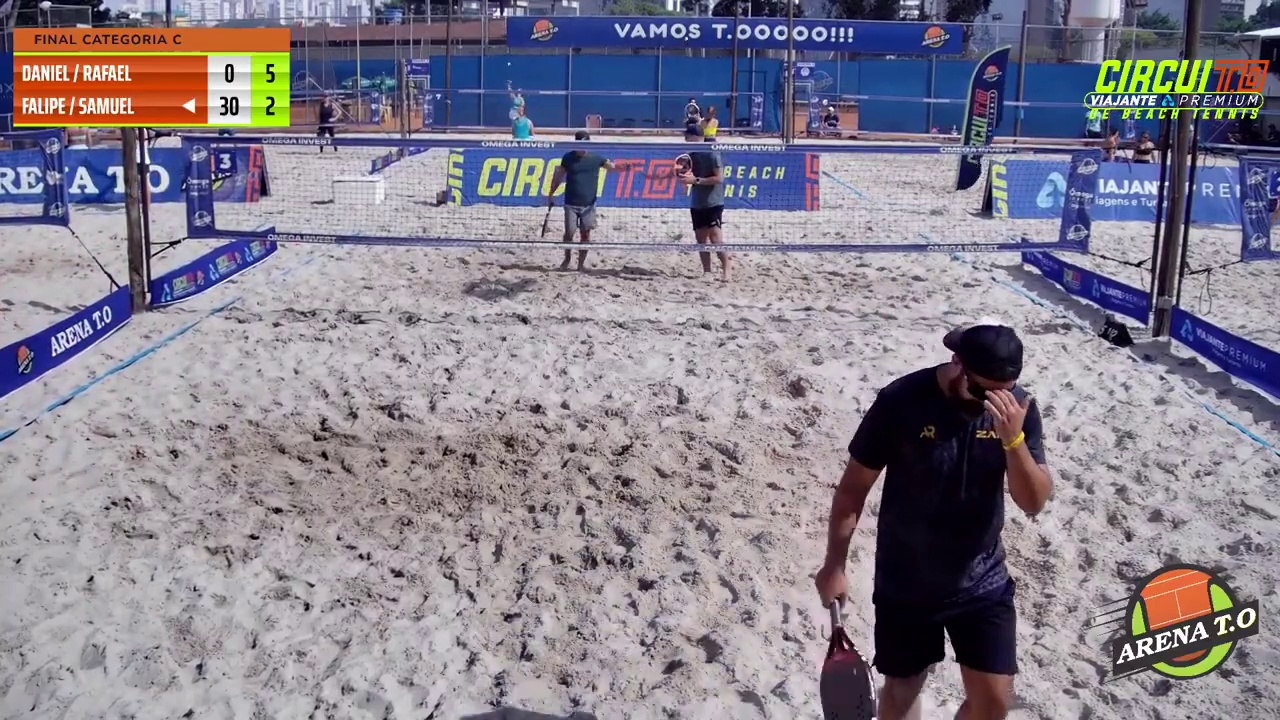court_line: (647, 0, 796, 371)
